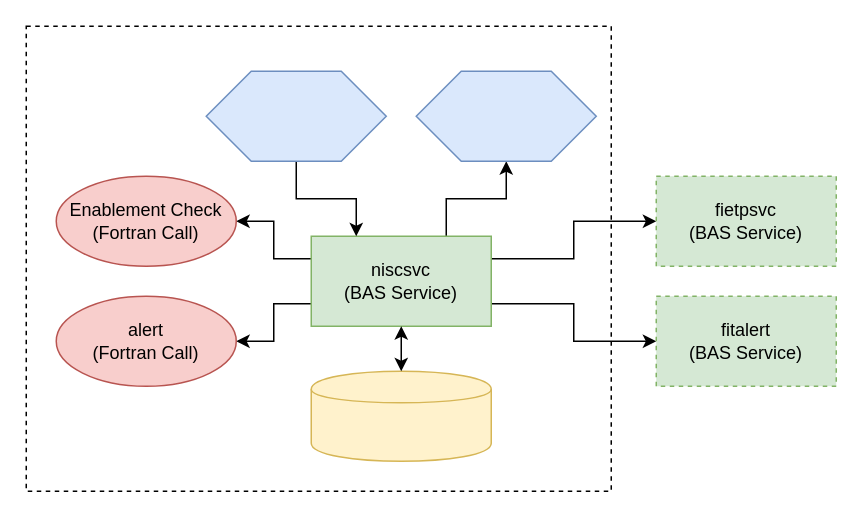
Image size: 863x530. Some labels were removed from this diagram. The shapes that lost their labels are listed below. From the top down, each one's centre as x and y in pixels, then its label:
At [295,115]: "CNIS<GO> (Rapid UI)".
At [505,115]: "CSYC<GO> (Rapid UI)".
At [400,415]: "niscdb (Comdb2)".
